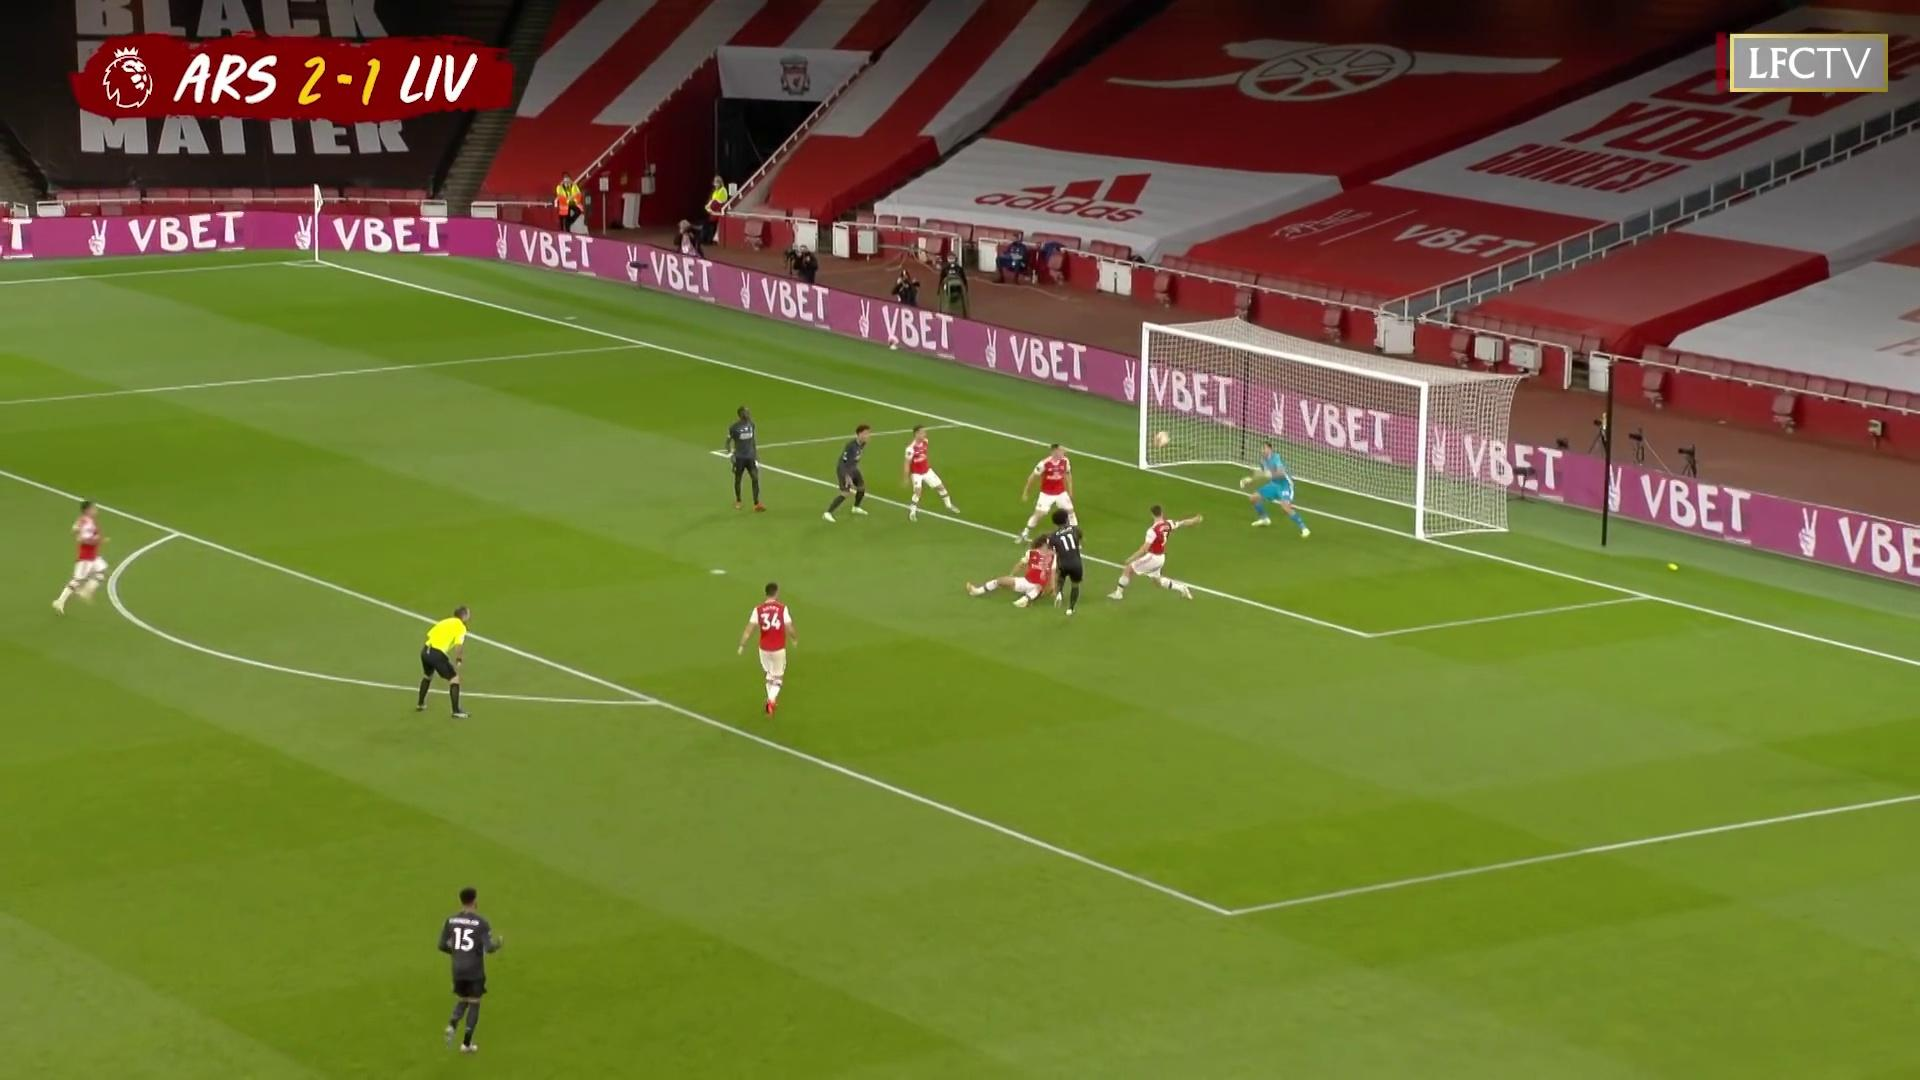ball: (1155, 430, 1172, 448)
